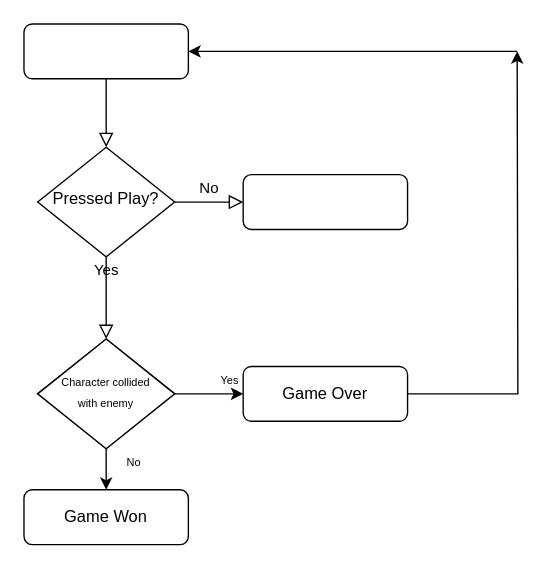
This 553x569 diagram has some shape labels left out. Each missing label, with the centre of its shape:
"Application.Quit" belongs at (325,201).
"Main menu" belongs at (105,51).
